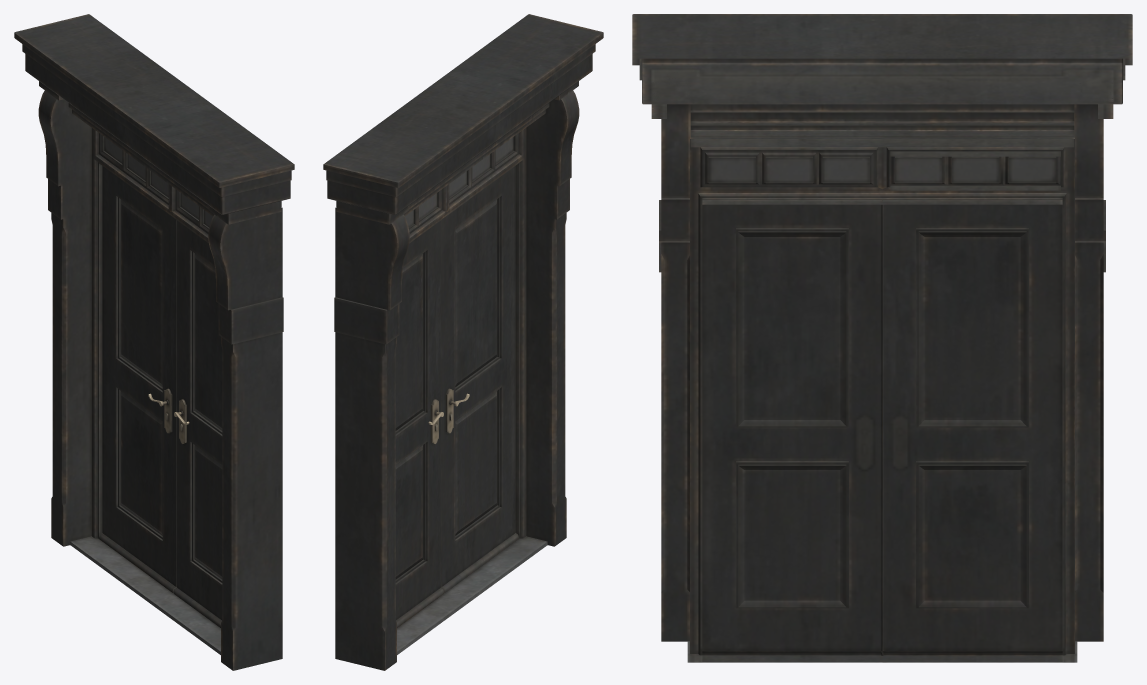
File: modular_urban_apartments_facade__door_centered_large_01.obj
3 renders of one model, left to right at view 1: azimuth 30°, elevation 25°; view 2: azimuth 150°, elevation 25°; view 3: azimuth 270°, elevation 25°, orthographic. The views are drawn at different scales.
Visible parts, largest first — view 1: door_centered_large_01; view 2: door_centered_large_01; view 3: door_centered_large_01.
Boxes of the visible parts, x1=… form: door_centered_large_01: x1=14, y1=14, x2=294, y2=670; door_centered_large_01: x1=323, y1=14, x2=603, y2=670; door_centered_large_01: x1=632, y1=14, x2=1132, y2=662.
Bounding box in the file's own units: 0.44 × 2.81 × 2.08.
Materials: 2 (2 with a texture image).
